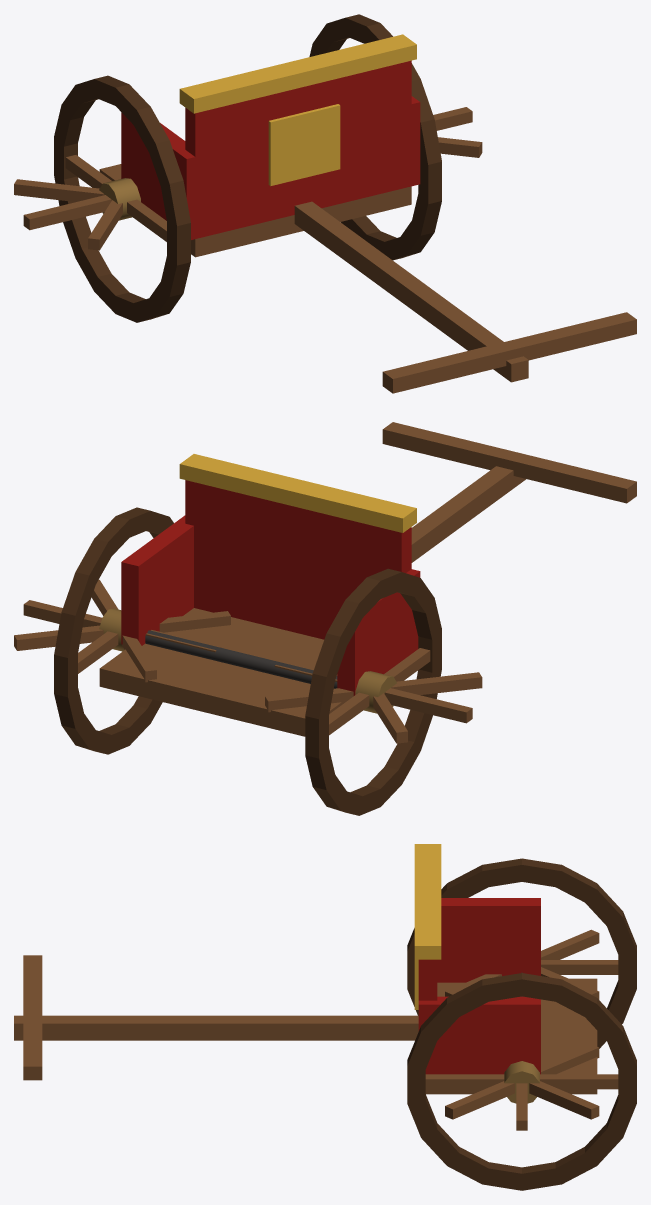
File: im_chariot.glb
The picture shows the model from 3 angles, top to bottom: view 1: azimuth 30°, elevation 25°; view 2: azimuth 150°, elevation 25°; view 3: azimuth 270°, elevation 25°; orthographic projection. The views are drawn at different scales.
Visible parts, largest first — view 1: im_chariot; view 2: im_chariot; view 3: im_chariot.
Part boxes in pixels (x1,y1,x2,y2): im_chariot: [14, 14, 636, 393]; im_chariot: [14, 422, 636, 815]; im_chariot: [14, 844, 636, 1190].
Bounding box in the file's own units: 2.54 × 1.38 × 3.31.
